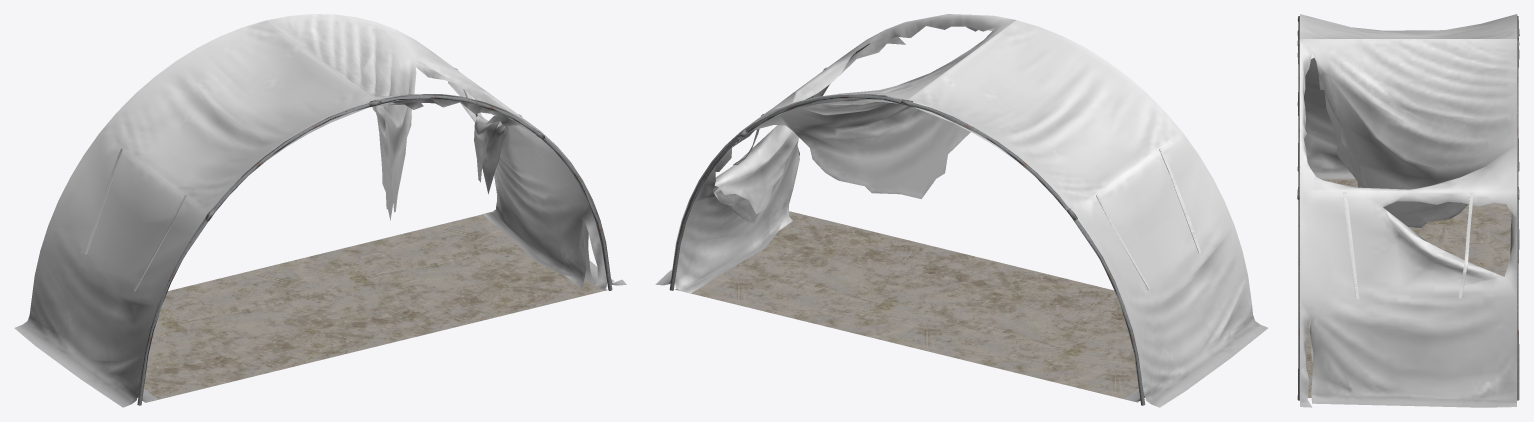
File: tent_tunnel_300_b.glb
3 views of the same model, side by side, from view 1: azimuth 30°, elevation 25°; view 2: azimuth 150°, elevation 25°; view 3: azimuth 270°, elevation 25° (orthographic).
Visible parts, largest first — view 1: tent_tunnel_300_b_LOD0; view 2: tent_tunnel_300_b_LOD0; view 3: tent_tunnel_300_b_LOD0.
Part boxes in pixels (x1,y1,x2,y2): tent_tunnel_300_b_LOD0: (14, 14, 626, 407); tent_tunnel_300_b_LOD0: (655, 14, 1268, 407); tent_tunnel_300_b_LOD0: (1297, 14, 1519, 407).
Size of the model in its own units: 8.09 by 3.76 by 3.07.
Materials: 3 (3 with a texture image).
